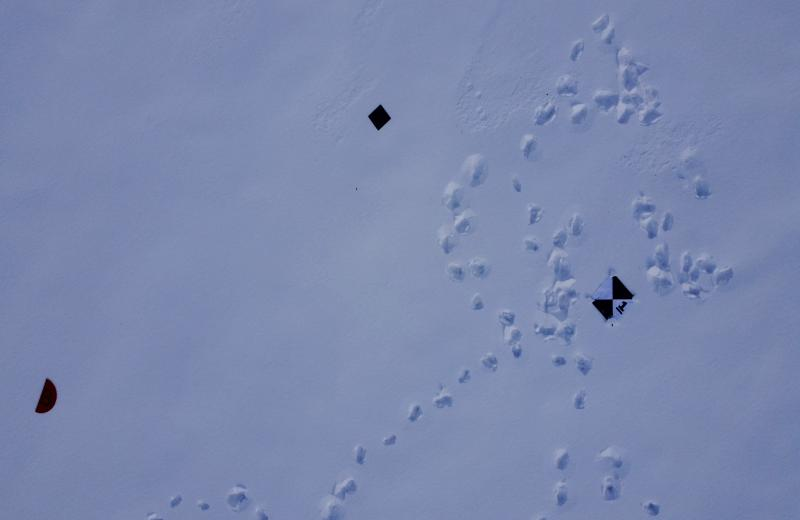Semi Circle: (29, 372, 64, 424)
Square: (366, 101, 392, 135)
